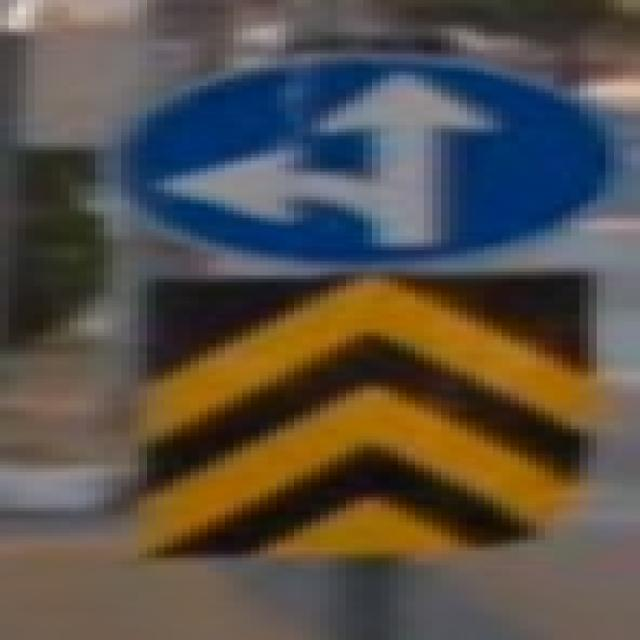Straight or Left: (118, 56, 619, 264)
